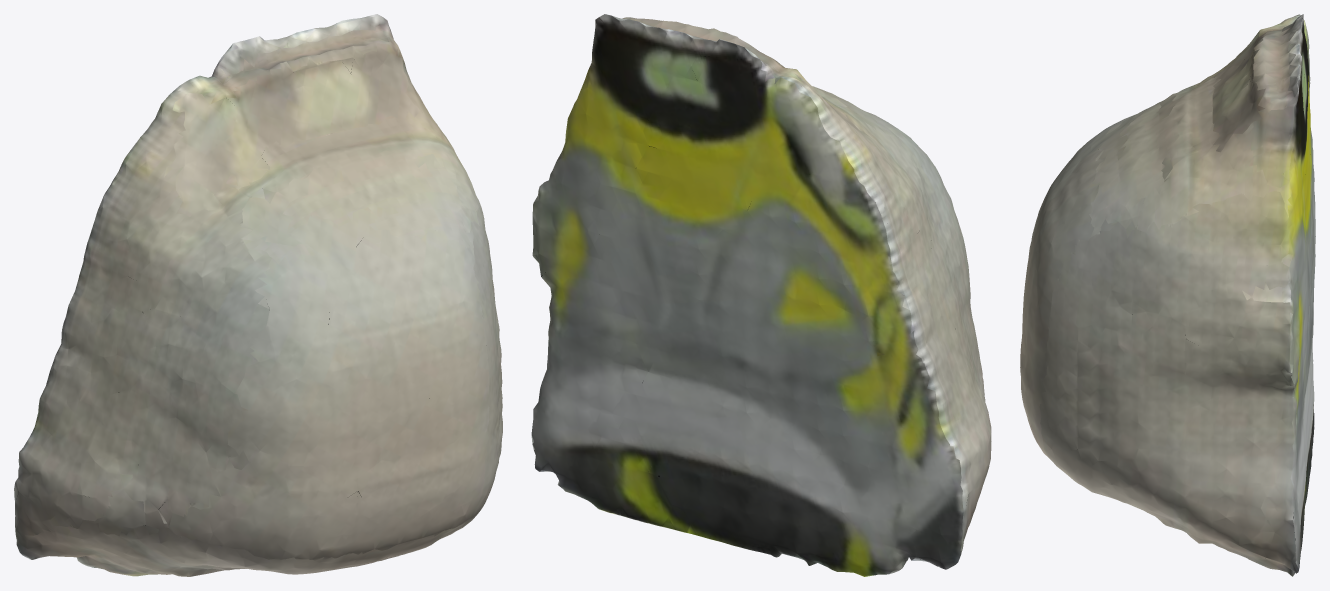
3 renders of one model, left to right at view 1: azimuth 30°, elevation 25°; view 2: azimuth 150°, elevation 25°; view 3: azimuth 270°, elevation 25°, orthographic. The views are drawn at different scales.
Parts seen in each view (by area): view 1: world; view 2: world; view 3: world.
Boxes of the visible parts, left/top/right/bottom form: world: left=14, top=14, right=502, bottom=576; world: left=531, top=14, right=991, bottom=576; world: left=1020, top=14, right=1315, bottom=576.
Size of the model in its own units: 0.7933 by 0.8721 by 0.4794.
1 material, 1 textured.
